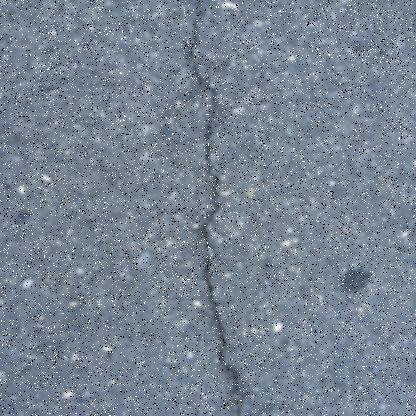Cracks: (177, 0, 272, 415)
